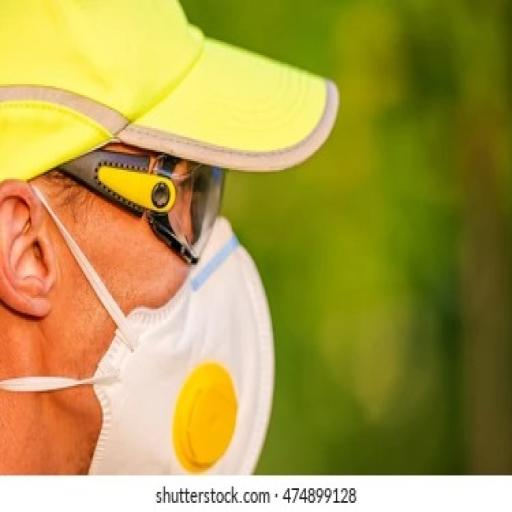mask: (90, 234, 281, 480)
